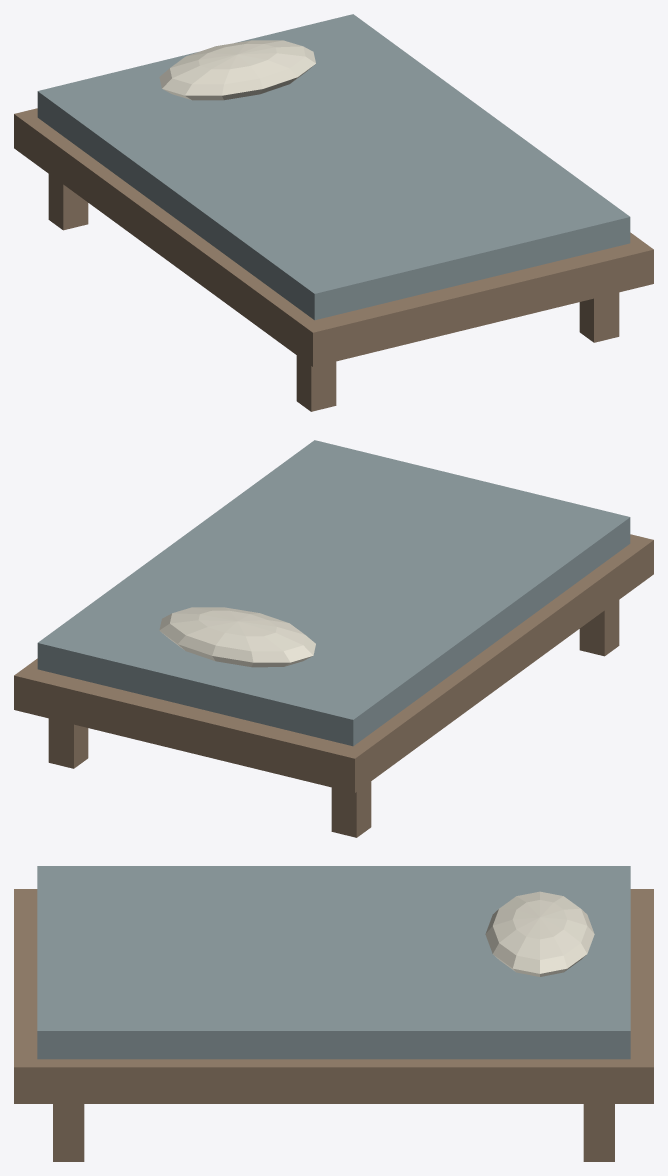
File: AR-BED.glb
3 renders of one model, top to bottom at view 1: azimuth 30°, elevation 25°; view 2: azimuth 150°, elevation 25°; view 3: azimuth 270°, elevation 25°, orthographic. The views are drawn at different scales.
Visible parts, largest first — view 1: bedding, platform, pillow, bed_leg (×3); view 2: bedding, platform, pillow, bed_leg (×3); view 3: bedding, platform, pillow, bed_leg (×2).
Part boxes in pixels (x1=…): bedding: x1=37, y1=14, x2=630, y2=320; platform: x1=14, y1=108, x2=653, y2=366; pillow: x1=159, y1=40, x2=315, y2=100; bed_leg (×3): x1=48, y1=174, x2=619, y2=411; bedding: x1=37, y1=440, x2=630, y2=746; platform: x1=14, y1=534, x2=653, y2=792; pillow: x1=159, y1=607, x2=315, y2=667; bed_leg (×3): x1=48, y1=600, x2=619, y2=837; bedding: x1=37, y1=866, x2=630, y2=1059; platform: x1=14, y1=889, x2=653, y2=1103; pillow: x1=485, y1=891, x2=594, y2=976; bed_leg (×2): x1=53, y1=1104, x2=614, y2=1161.
Size of the model in its own units: 1.35 by 0.58 by 2.05.
